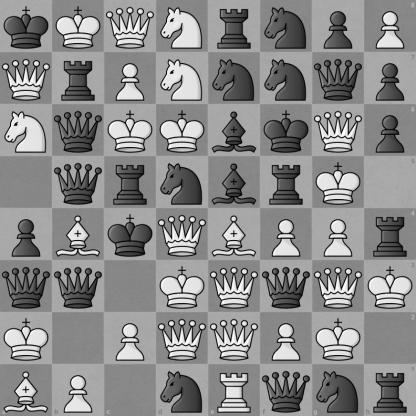B: (0, 364, 52, 416), (53, 209, 104, 260), (209, 209, 260, 260)
K: (364, 260, 416, 312), (1, 313, 52, 364), (53, 1, 104, 52), (105, 105, 156, 156), (157, 105, 208, 156), (157, 261, 208, 312), (313, 157, 364, 208), (313, 313, 364, 364)
N: (1, 105, 52, 156), (157, 1, 208, 52), (157, 53, 208, 104)
P: (52, 364, 104, 416), (364, 0, 416, 52), (105, 53, 156, 104), (105, 313, 156, 364), (261, 209, 312, 260), (261, 313, 312, 364), (313, 209, 364, 260)
Q: (1, 53, 52, 104), (105, 1, 156, 52), (157, 209, 208, 260), (157, 313, 208, 364), (209, 261, 260, 312), (209, 313, 260, 364), (313, 105, 364, 156), (313, 261, 364, 312)
R: (209, 364, 260, 416)
b: (209, 105, 260, 156), (209, 157, 260, 208)
board: (0, 0, 415, 415)
k: (1, 1, 52, 52), (105, 209, 156, 260), (261, 105, 312, 156)
n: (156, 364, 209, 416), (312, 364, 364, 416), (157, 157, 208, 208), (209, 53, 260, 104), (261, 1, 312, 52), (261, 53, 312, 104)
p: (364, 52, 416, 104), (364, 104, 416, 156), (1, 209, 52, 260), (313, 1, 364, 52)
q: (260, 364, 312, 416), (1, 261, 52, 312), (53, 105, 104, 156), (53, 157, 104, 208), (53, 261, 104, 312), (261, 261, 312, 312), (313, 53, 364, 104)
r: (364, 364, 416, 416), (364, 209, 416, 260), (53, 53, 104, 104), (105, 157, 156, 208), (209, 1, 260, 52), (261, 157, 312, 208)
